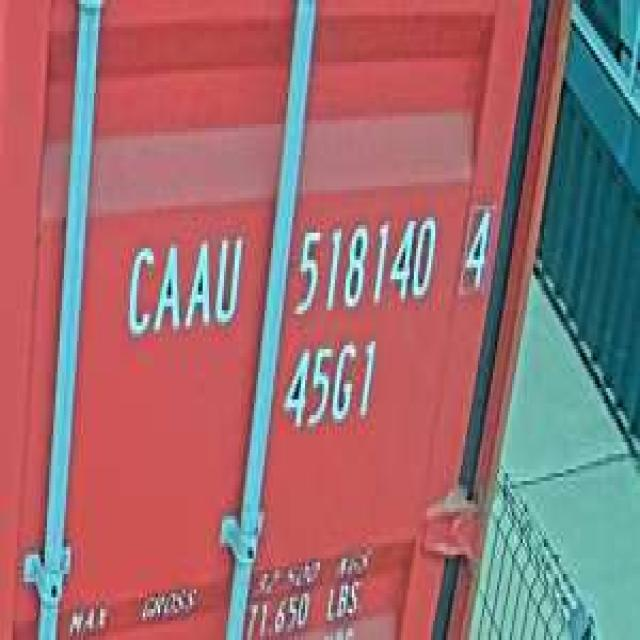dv: (459, 194, 495, 287)
owner: (120, 225, 246, 341)
serial: (290, 206, 440, 322)
size: (277, 330, 380, 438)
